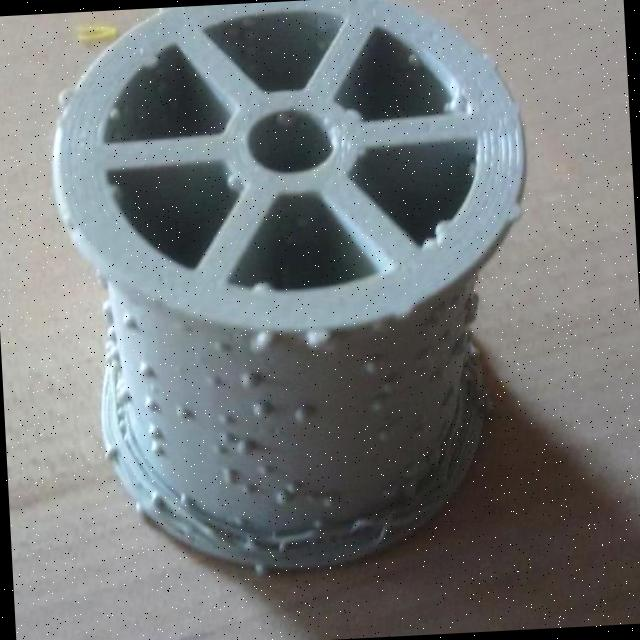blobs: (300, 320, 337, 350), (358, 352, 385, 378), (502, 201, 530, 226), (251, 328, 280, 352), (291, 397, 318, 422), (266, 486, 292, 511), (430, 217, 460, 238), (237, 364, 262, 389), (52, 83, 76, 108), (247, 400, 274, 422), (248, 558, 275, 580), (221, 170, 244, 194), (144, 488, 166, 511), (316, 492, 338, 514), (101, 104, 124, 125), (252, 276, 272, 300), (171, 398, 192, 420), (230, 437, 250, 460), (94, 298, 116, 318), (143, 418, 166, 437), (115, 387, 134, 410), (369, 398, 388, 420), (118, 308, 137, 330), (135, 53, 159, 70), (200, 372, 225, 388), (173, 489, 194, 508), (127, 494, 144, 517), (136, 358, 156, 377), (98, 442, 118, 461), (148, 440, 168, 458), (216, 466, 234, 486), (102, 320, 120, 340), (214, 408, 233, 426), (252, 462, 272, 479), (400, 52, 420, 69), (142, 395, 162, 411), (284, 479, 300, 496)
